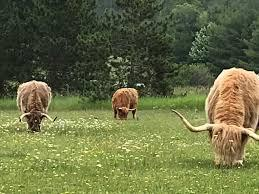cow: (171, 67, 259, 167), (16, 80, 57, 133), (111, 87, 139, 120)
